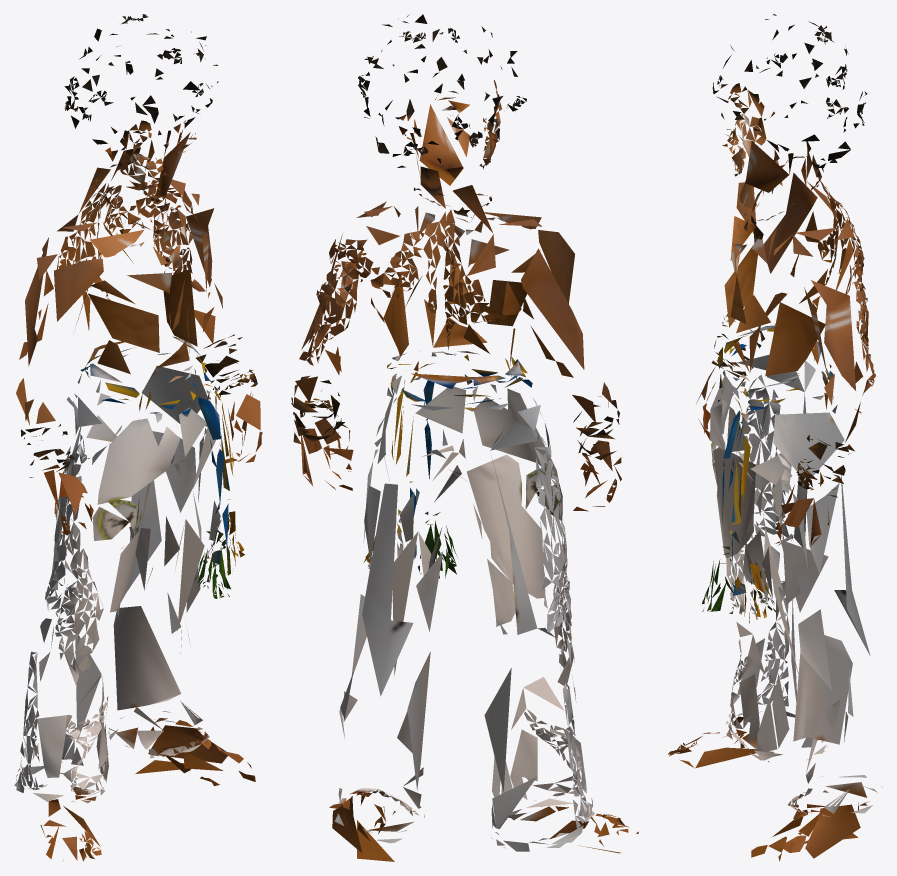
Rendered from demo_guard_01.glb.
3 views of the same model, side by side, from view 1: azimuth 30°, elevation 25°; view 2: azimuth 150°, elevation 25°; view 3: azimuth 270°, elevation 25° (orthographic). The views are drawn at different scales.
Parts seen in each view (by area): view 1: node_0; view 2: node_0; view 3: node_0.
Part boxes in pixels (x1=…): node_0: x1=14, y1=14, x2=262, y2=861; node_0: x1=291, y1=14, x2=638, y2=861; node_0: x1=668, y1=14, x2=882, y2=861.
Size of the model in its own units: 0.3999 by 1.11 by 0.2736.
Materials: 1 (1 with a texture image).
